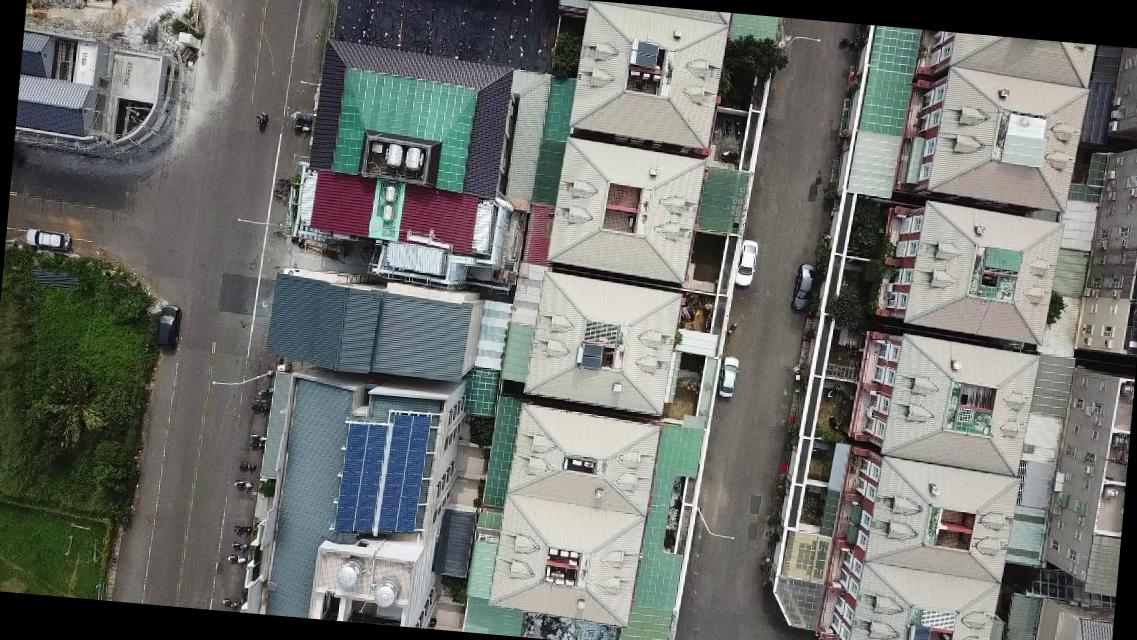vehicle: (790, 264, 818, 316), (732, 238, 760, 288), (25, 228, 74, 252), (156, 305, 182, 350), (719, 356, 740, 400)
